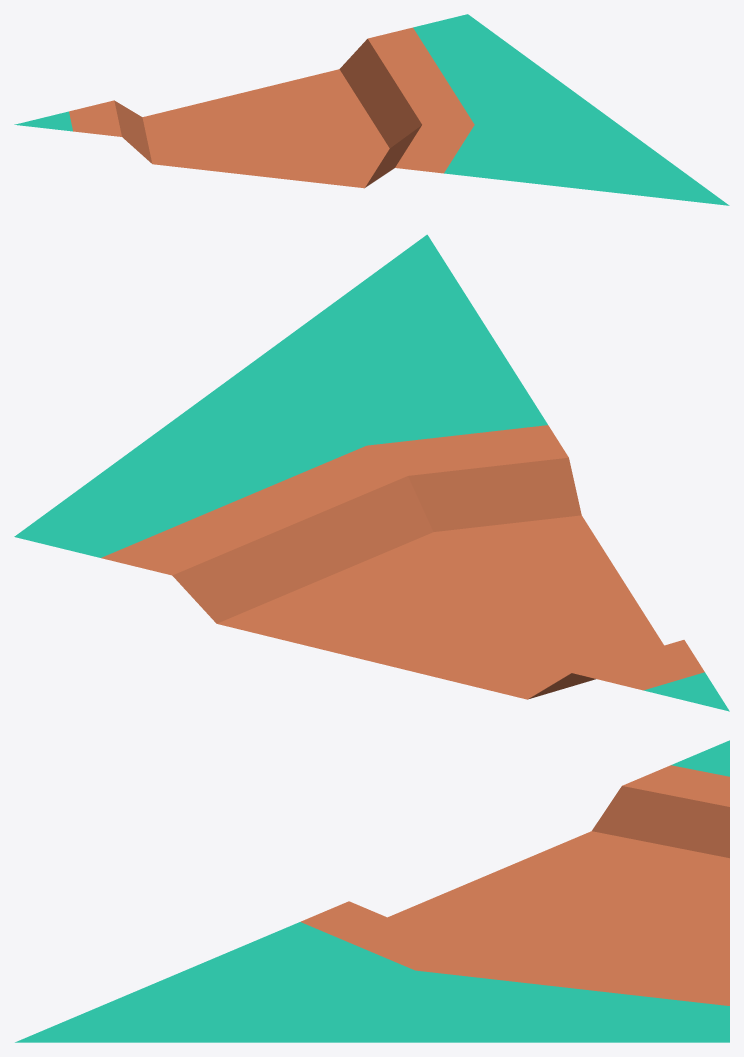
Rendered from ground_pathBend_halfSW.fbx.
3 renders of one model, top to bottom at view 1: azimuth 30°, elevation 25°; view 2: azimuth 150°, elevation 25°; view 3: azimuth 270°, elevation 25°, orthographic. The views are drawn at different scales.
Visible parts, largest first — view 1: ground_pathBend; view 2: ground_pathBend; view 3: ground_pathBend.
Boxes of the visible parts, <box> form: ground_pathBend: <box>14,14,729,205</box>; ground_pathBend: <box>14,234,729,711</box>; ground_pathBend: <box>15,740,729,1042</box>.
Size of the model in its own units: 10 by 0.5 by 10.
